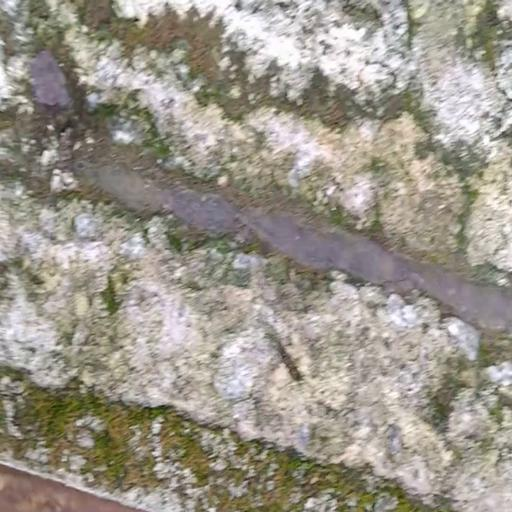spalling: (57, 63, 512, 357)
